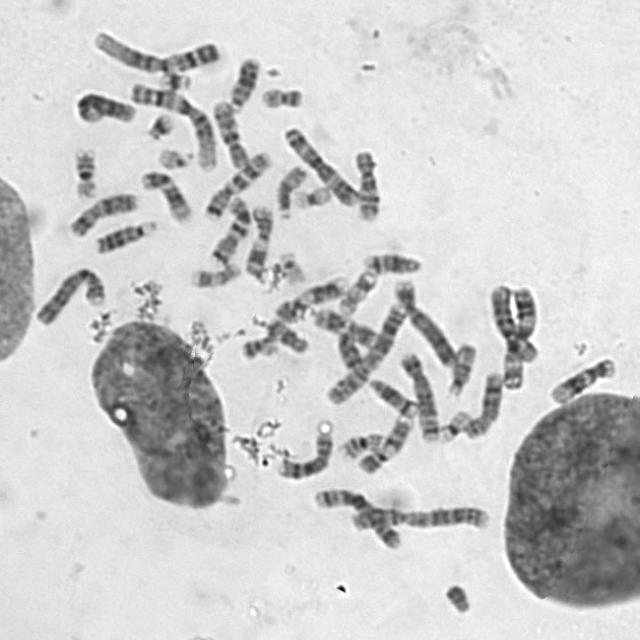A1: (123, 77, 219, 172), (86, 22, 222, 75)
A2: (318, 294, 411, 406), (341, 497, 494, 533)
A3: (277, 119, 361, 208), (495, 278, 540, 392)
B4: (387, 273, 460, 368), (28, 259, 108, 327)
B5: (307, 480, 405, 551), (392, 343, 442, 444)
C10: (207, 93, 252, 169), (348, 141, 383, 223)
C11: (306, 301, 380, 350), (238, 198, 276, 282)
C12: (542, 349, 618, 405), (134, 162, 194, 224)
C6: (482, 276, 540, 364), (68, 84, 138, 126)
C7: (196, 144, 274, 219), (202, 188, 253, 266)
C8: (269, 423, 335, 482), (457, 365, 505, 440)
C9: (269, 268, 350, 323), (352, 408, 416, 476)
D13: (88, 212, 158, 255), (221, 49, 263, 111)
D14: (362, 371, 419, 418), (356, 244, 424, 275)
D15: (270, 158, 309, 220), (441, 336, 479, 397)
E16: (66, 141, 99, 201), (333, 425, 386, 461)
E17: (332, 263, 379, 316), (183, 254, 243, 290)
E18: (331, 324, 373, 385), (258, 313, 311, 356)
F19: (431, 403, 472, 444), (286, 178, 334, 210)
F20: (254, 79, 305, 110), (234, 330, 281, 360)
G21: (139, 105, 177, 141), (152, 64, 194, 92)
G22: (272, 244, 308, 286), (151, 140, 195, 170)
X: (62, 185, 140, 238)
Y: (437, 576, 474, 615)
